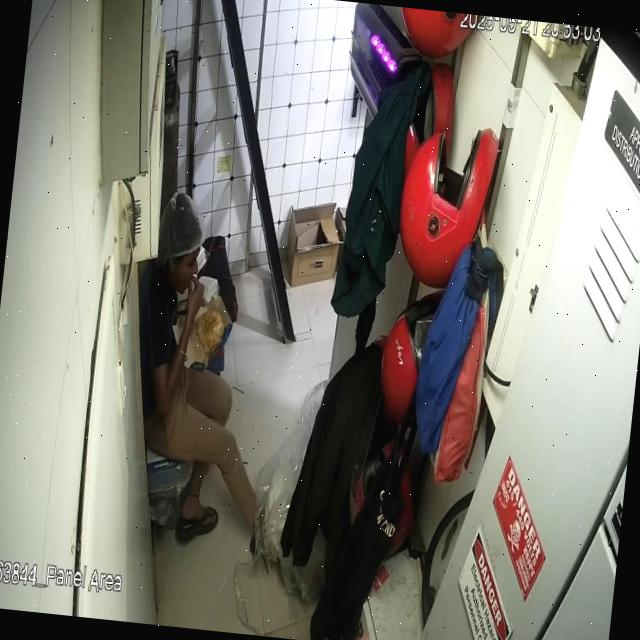helmet: (398, 125, 500, 290)
no_helmet: (155, 192, 204, 297)
